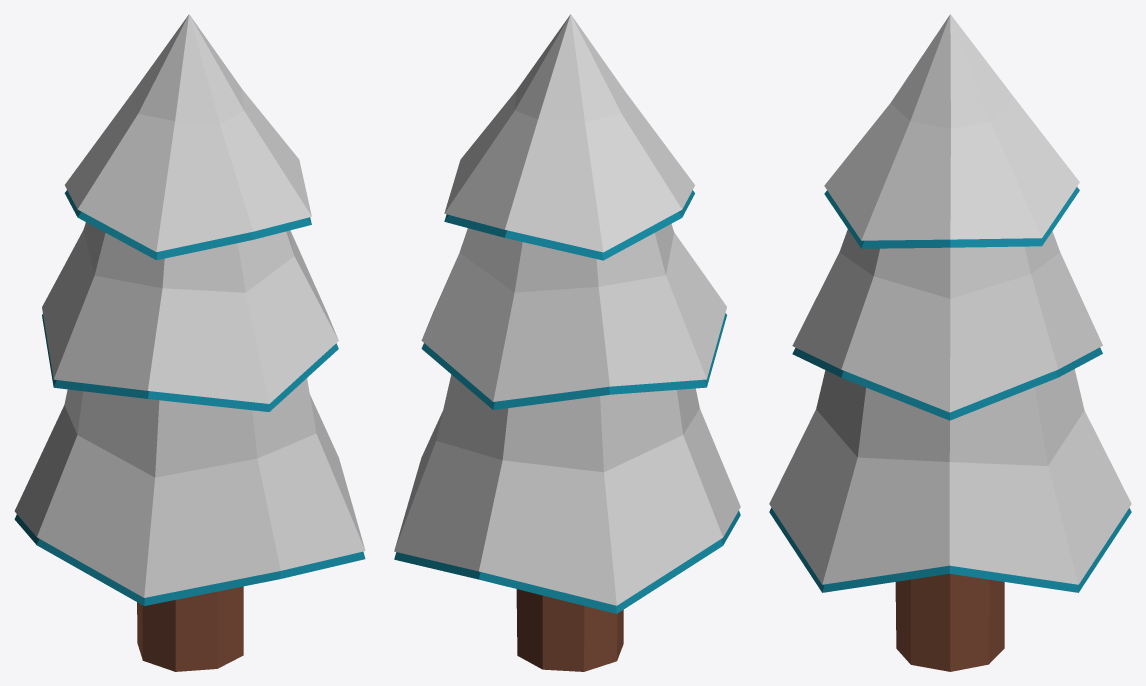
File: Tree_01_winter_blue_mat.fbx
The picture shows the model from 3 angles, left to right: view 1: azimuth 30°, elevation 25°; view 2: azimuth 150°, elevation 25°; view 3: azimuth 270°, elevation 25°; orthographic projection.
Parts seen in each view (by area): view 1: Tree_01_winter_blue_mat; view 2: Tree_01_winter_blue_mat; view 3: Tree_01_winter_blue_mat.
Boxes of the visible parts, x1,y1,x2,y2 form: Tree_01_winter_blue_mat: (14, 14, 365, 671); Tree_01_winter_blue_mat: (394, 14, 740, 671); Tree_01_winter_blue_mat: (769, 14, 1131, 671).
Size of the model in its own units: 83.22 by 167 by 86.78.
